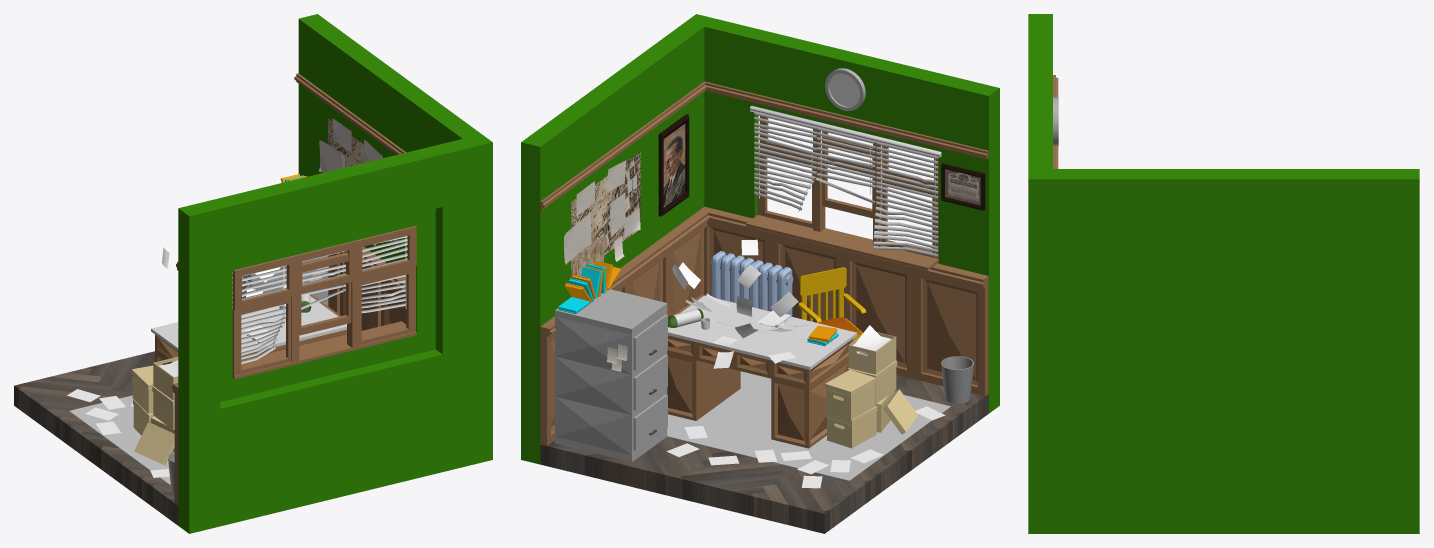
The model's file is minified-detective-room.fbx.
3 views of the same model, side by side, from view 1: azimuth 30°, elevation 25°; view 2: azimuth 150°, elevation 25°; view 3: azimuth 270°, elevation 25° (orthographic). The views are drawn at different scales.
Parts seen in each view (by area): view 1: wall_wall_0, window_wood_0, floor_floor_0, blinders_window-blinds_0, docbox_docbox_0, wall_detail_2_wood_0, table_marble_0, window_wood2_0, carpet_carpet_0, papers_paper_0, table_wood_0, steelcab_Steel_0 (+3 smaller); view 2: wall_wall_0, wall_detail_1_wood_0, floor_floor_0, steelcab_Steel_0, blinders_window-blinds_0, table_wood_0, wall_detail_2_wood_0, carpet_carpet_0, docbox_docbox_0, papers_paper_0, table_marble_0, window_wood_0 (+16 smaller); view 3: wall_wall_0.
Part boxes in pixels (<box>): wall_wall_0: <box>178,14,492,533</box>; window_wood_0: <box>232,226,416,378</box>; floor_floor_0: <box>14,351,178,525</box>; blinders_window-blinds_0: <box>232,236,407,363</box>; docbox_docbox_0: <box>131,357,178,465</box>; wall_detail_2_wood_0: <box>294,73,406,330</box>; table_marble_0: <box>151,296,346,352</box>; window_wood2_0: <box>232,321,416,379</box>; carpet_carpet_0: <box>69,395,170,485</box>; papers_paper_0: <box>67,247,329,477</box>; table_wood_0: <box>155,294,346,364</box>; steelcab_Steel_0: <box>232,255,328,305</box>; wall_wall_0: <box>521,14,999,464</box>; wall_detail_1_wood_0: <box>705,82,988,396</box>; floor_floor_0: <box>540,375,988,533</box>; steelcab_Steel_0: <box>555,289,667,462</box>; blinders_window-blinds_0: <box>754,112,938,257</box>; table_wood_0: <box>667,295,853,448</box>; wall_detail_2_wood_0: <box>540,81,713,445</box>; carpet_carpet_0: <box>667,371,950,480</box>; docbox_docbox_0: <box>825,332,917,448</box>; papers_paper_0: <box>666,239,945,488</box>; table_marble_0: <box>668,295,857,369</box>; window_wood_0: <box>757,116,938,258</box>; wall_wall_0: <box>1028,14,1419,533</box>.
Bounding box in the file's own units: 78974 × 78978 × 78974.
